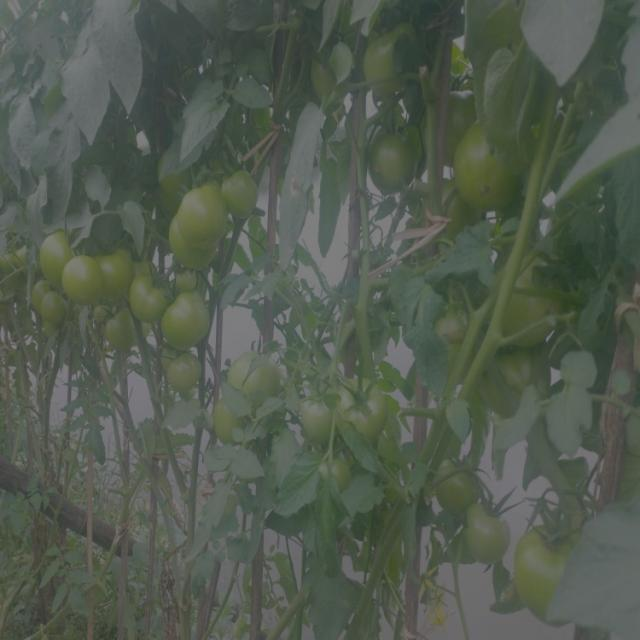tomato: (511, 524, 582, 627), (494, 257, 565, 347), (459, 121, 518, 207), (336, 378, 390, 443), (226, 347, 285, 403), (465, 502, 513, 567), (370, 127, 415, 196), (180, 182, 228, 245), (162, 293, 212, 351), (364, 27, 413, 83), (434, 453, 479, 507), (172, 219, 217, 267), (160, 351, 208, 395), (223, 166, 263, 216), (128, 273, 165, 325), (299, 394, 335, 445), (98, 246, 130, 300), (106, 312, 143, 354), (209, 401, 245, 443), (306, 56, 340, 100), (318, 455, 352, 499), (499, 349, 536, 389), (39, 229, 69, 274), (59, 256, 91, 297), (436, 302, 468, 342), (44, 296, 67, 325), (34, 279, 50, 313)
